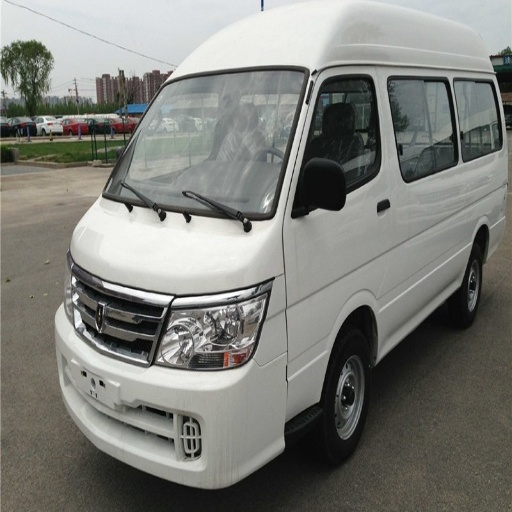front_bumper: (61, 283, 334, 488)
front_glass: (104, 69, 306, 219)
front_left_door: (355, 185, 439, 338), (293, 73, 379, 214), (402, 123, 433, 184)
trunk: (463, 165, 509, 230)
